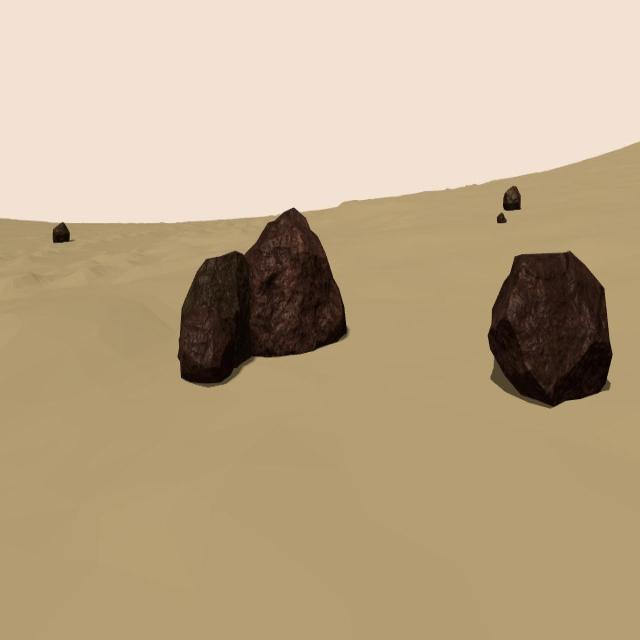rock: (487, 251, 612, 405), (245, 206, 347, 358), (178, 250, 253, 368), (179, 304, 233, 384), (503, 184, 520, 211), (52, 221, 70, 244), (496, 211, 506, 223)
